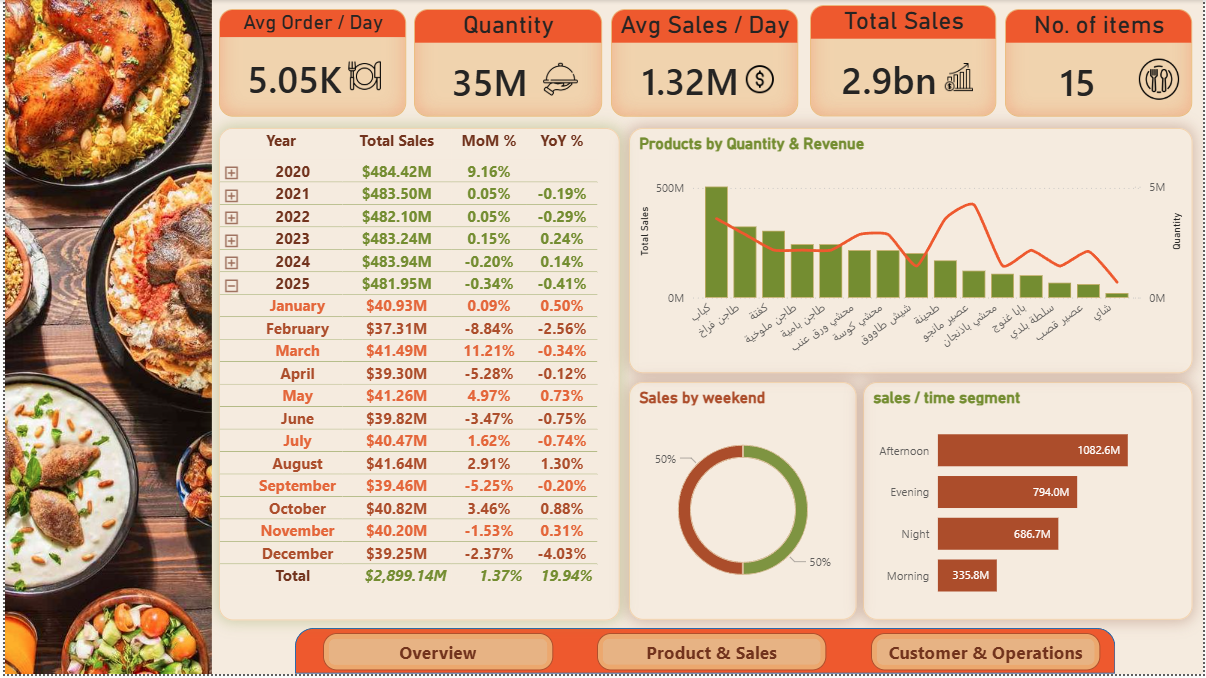

Layout of this report page (visuals, bound fields, positions):
{"tool":"powerbi","page":{"name":"Product & Sales","canvas":[1280,720],"ordinal":1},"visuals":[{"type":"image","box":[0,0,221,720.3],"z":0},{"type":"cardVisual","title":"Avg Sales / Day","fields":{"Data":["Table_Measures.Avg Sales by Day"]},"box":[647.3,9.2,199.6,115.4],"z":1000},{"type":"cardVisual","title":"Quantity","fields":{"Data":["Table_Measures.Quantity"]},"box":[437.4,9.4,200.6,115],"z":2000},{"type":"cardVisual","title":"No. of items","fields":{"Data":["Table_Measures.Total_items"]},"box":[1068.5,9.2,199.6,115.4],"z":3000},{"type":"barChart","title":"sales / time segment","fields":{"Category":["dim_date.segment"],"Y":["Table_Measures.Total Sales"]},"box":[916.2,407.9,351.8,254.1],"z":4000},{"type":"lineStackedColumnComboChart","title":"Products by Quantity & Revenue","fields":{"Category":["dim_product.item_name"],"Y":["Table_Measures.Total Sales"],"Y2":["Table_Measures.Quantity"]},"box":[666.1,136.4,601.9,262.2],"z":5000},{"type":"donutChart","title":"Sales by weekend ","fields":{"Category":["dim_date.is_weekend"],"Y":["Table_Measures.Total Sales"]},"box":[666.1,407.9,243.4,254.1],"z":6000},{"type":"cardVisual","title":" Avg Order / Day","fields":{"Data":["Table_Measures.Avg Orders / Day"]},"box":[228.5,9.2,199.6,115.4],"z":7000},{"type":"shape","box":[310,671.2,876.2,48.8],"z":8000},{"type":"shape","box":[339.2,676.2,245.8,40.4],"z":9000},{"type":"shape","box":[632.7,676.2,245,40],"z":10000},{"type":"shape","box":[925.4,676.2,245,40.4],"z":11000},{"type":"pivotTable","fields":{"Rows":["dim_date.order_date.Variation.Date Hierarchy.Year","dim_date.order_date.Variation.Date Hierarchy.Month"],"Values":["Table_Measures.Total Sales","Table_Measures.MoM %","Table_Measures.YoY %"]},"box":[228.7,136.4,428,525.6],"z":12000},{"type":"cardVisual","title":"Total Sales","fields":{"Data":["Table_Measures.Total Sales"]},"box":[860,5.4,199.3,119],"z":13000}]}

Visuals, with their boxes in screenshot pixels (x1, y1, x2, y2), scaled from the page's 1280x720 canvas onto the 1206x678 screenshot:
image: 0/0/208/677
"Avg Sales / Day" cardVisual: 610/9/798/117
"Quantity" cardVisual: 412/9/601/117
"No. of items" cardVisual: 1007/9/1195/117
"sales / time segment" barChart: 863/384/1195/623
"Products by Quantity & Revenue" lineStackedColumnComboChart: 628/128/1195/375
"Sales by weekend " donutChart: 628/384/857/623
" Avg Order / Day" cardVisual: 215/9/403/117
shape: 292/632/1118/677
shape: 320/637/551/675
shape: 596/637/827/674
shape: 872/637/1103/675
pivotTable - dim_date.order_date.Variation.Date Hierarchy.Year x dim_date.order_date.Variation.Date Hierarchy.Month: 215/128/619/623
"Total Sales" cardVisual: 810/5/998/117
